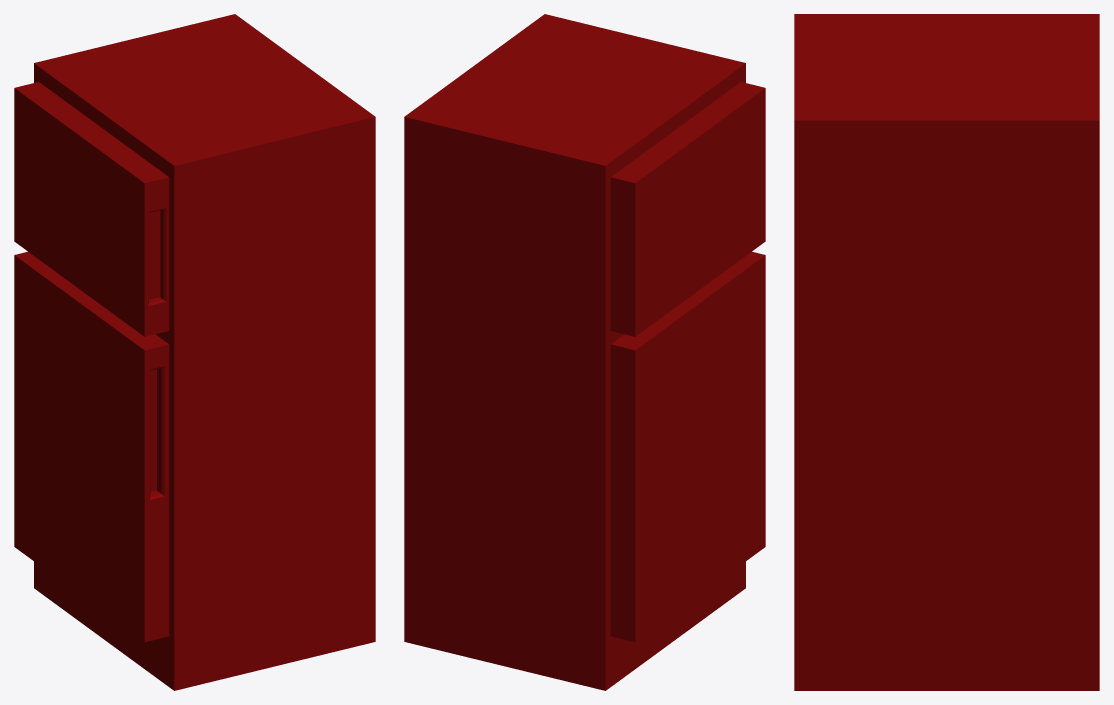
File: fridge.fbx
The picture shows the model from 3 angles, left to right: view 1: azimuth 30°, elevation 25°; view 2: azimuth 150°, elevation 25°; view 3: azimuth 270°, elevation 25°; orthographic projection. The views are drawn at different scales.
Parts seen in each view (by area): view 1: pCube5, pCube7, pCube6; view 2: pCube5, pCube7, pCube6; view 3: pCube5.
Boxes of the visible parts, x1=… form: pCube5: x1=34, y1=14, x2=375, y2=690; pCube7: x1=14, y1=251, x2=169, y2=642; pCube6: x1=14, y1=82, x2=169, y2=336; pCube5: x1=404, y1=14, x2=745, y2=690; pCube7: x1=610, y1=251, x2=765, y2=642; pCube6: x1=610, y1=82, x2=765, y2=336; pCube5: x1=794, y1=14, x2=1099, y2=690.
Bounding box in the file's own units: 7.88 × 17.51 × 8.49.
